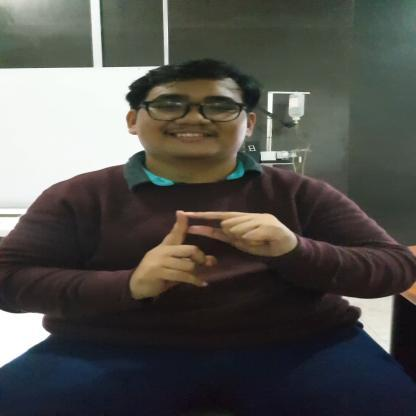P: (130, 210, 293, 300)
